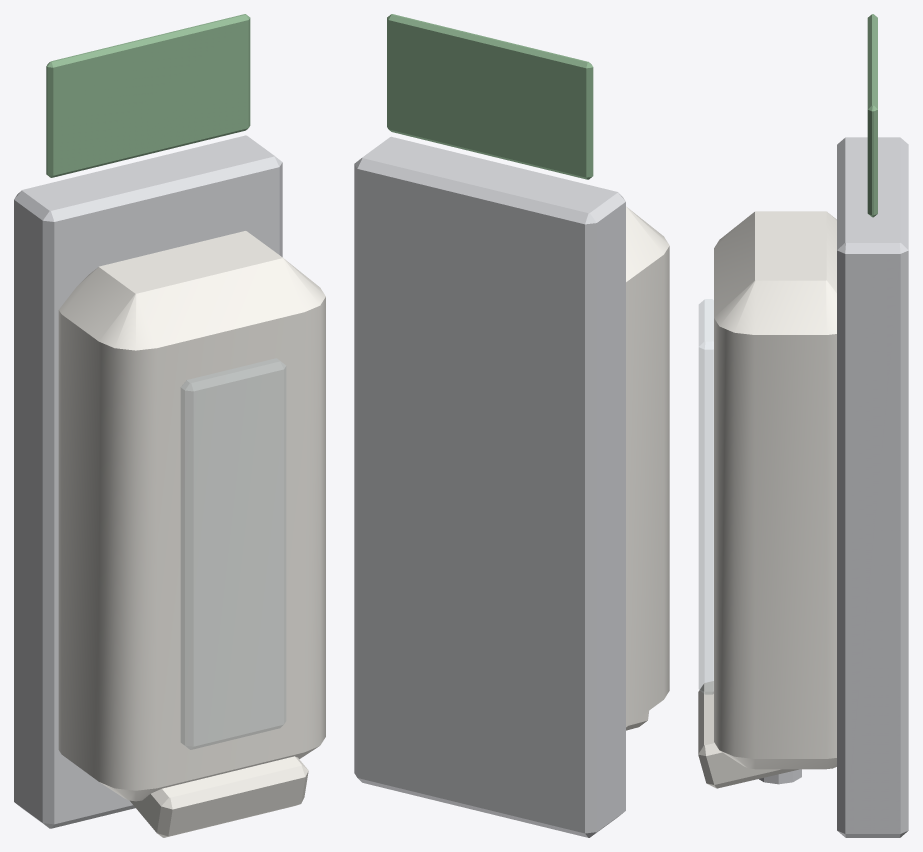
The model's file is care-home-and-day-room-hand-gel-dispenser-7539fe90__35755.glb.
3 renders of one model, left to right at view 1: azimuth 30°, elevation 25°; view 2: azimuth 150°, elevation 25°; view 3: azimuth 270°, elevation 25°, orthographic. The views are drawn at different scales.
Visible parts, largest first — view 1: hand-gel-dispenser; view 2: hand-gel-dispenser; view 3: hand-gel-dispenser.
Part boxes in pixels (x1,y1,x2,y2): hand-gel-dispenser: [14, 14, 325, 837]; hand-gel-dispenser: [354, 14, 669, 837]; hand-gel-dispenser: [698, 14, 908, 837].
Size of the model in its own units: 0.13 by 0.39 by 0.1027.
